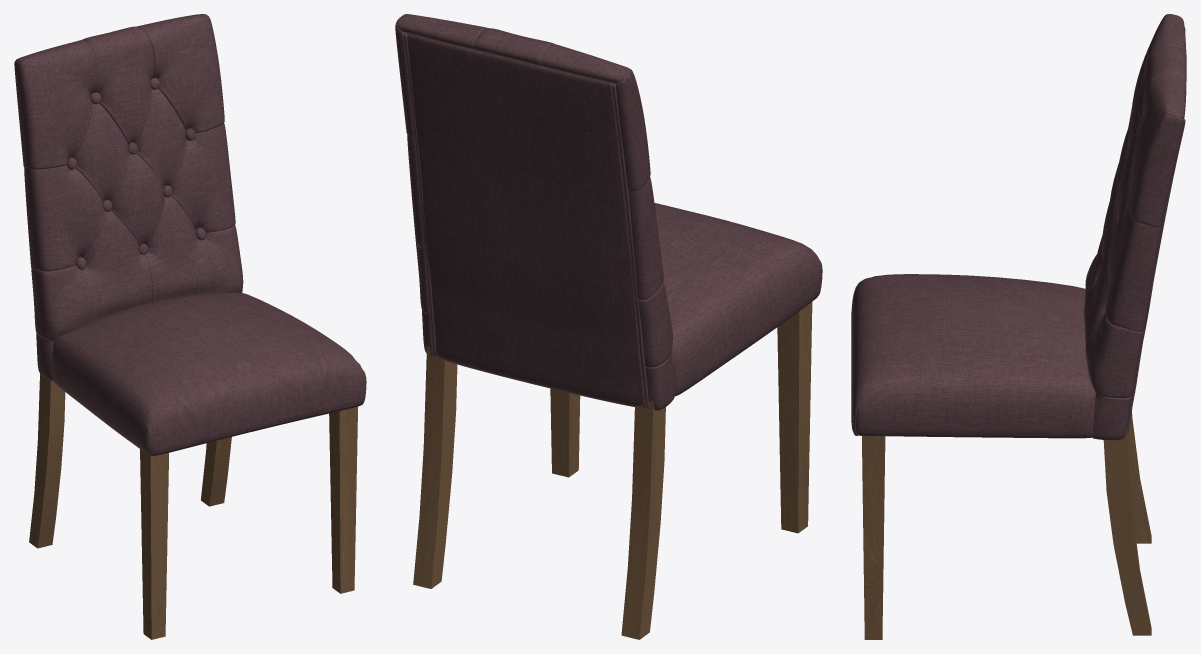
Rendered from example114.gltf.
3 renders of one model, left to right at view 1: azimuth 30°, elevation 25°; view 2: azimuth 150°, elevation 25°; view 3: azimuth 270°, elevation 25°, orthographic. The views are drawn at different scales.
Size of the model in its own units: 47.33 by 98.32 by 56.78.
Materials: 2 (2 with a texture image).
